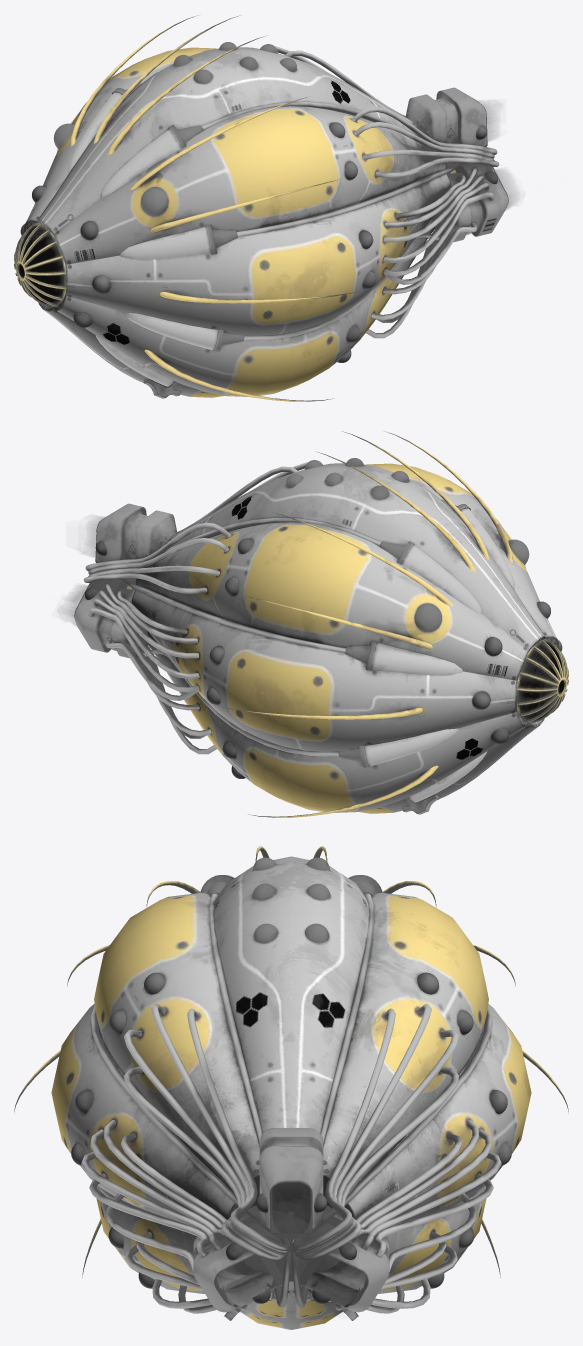
The model's file is personal-pod.glb.
3 renders of one model, top to bottom at view 1: azimuth 30°, elevation 25°; view 2: azimuth 150°, elevation 25°; view 3: azimuth 270°, elevation 25°, orthographic. The views are drawn at different scales.
Parts seen in each view (by area): view 1: root; view 2: root; view 3: root.
Part boxes in pixels (x1,y1,x2,y2): root: [14, 15, 519, 401]; root: [58, 431, 568, 817]; root: [14, 846, 568, 1329].
Size of the model in its own units: 18 by 11.59 by 12.57.
Materials: 2 (2 with a texture image).
